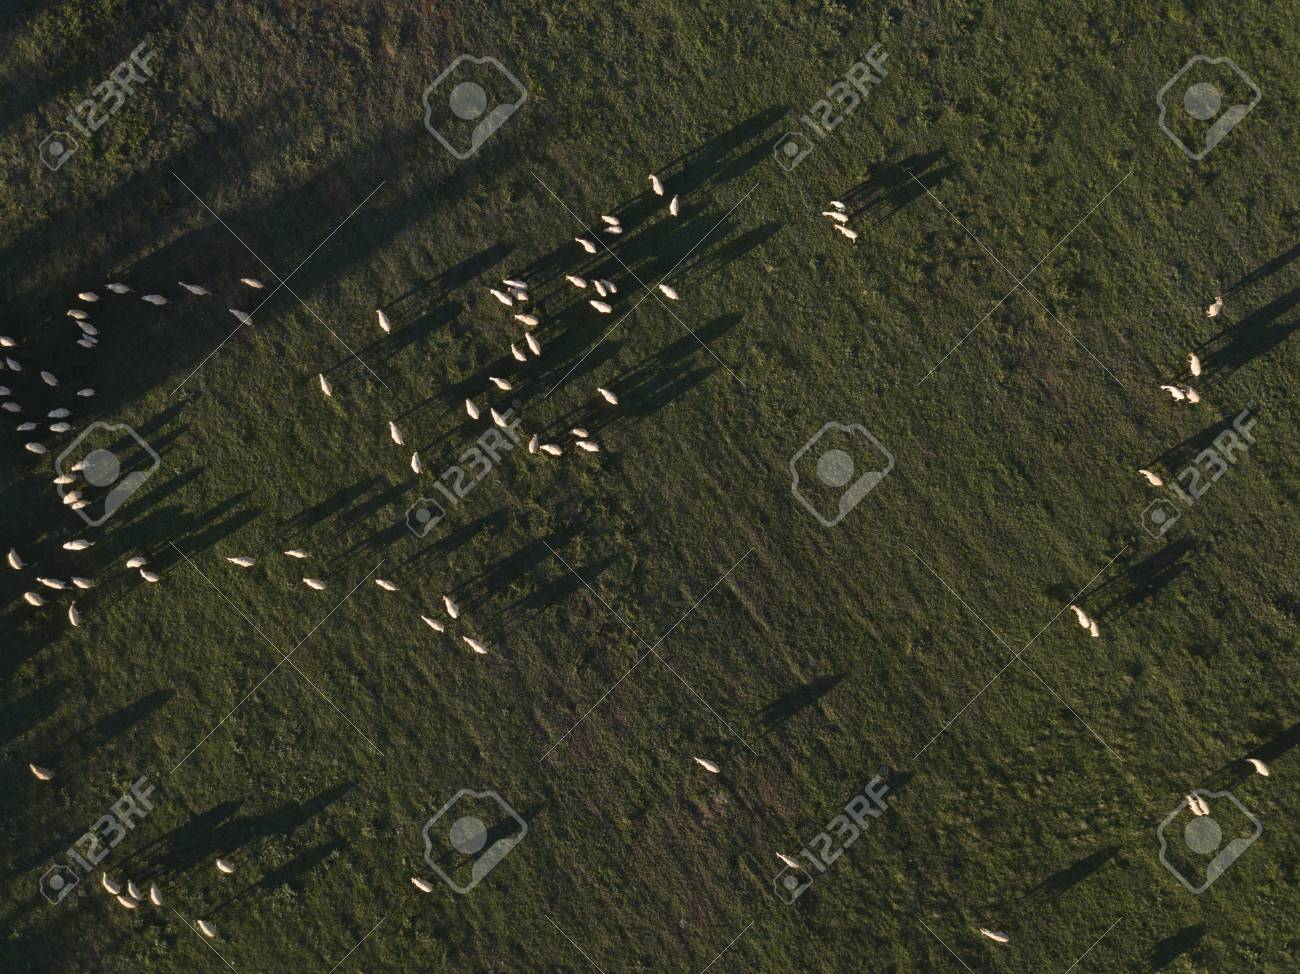sheep: (23, 759, 53, 783), (832, 220, 860, 243), (1068, 603, 1091, 631), (461, 632, 490, 655), (226, 305, 256, 326), (33, 575, 69, 592), (135, 565, 165, 585), (5, 545, 29, 571), (99, 871, 123, 894), (65, 600, 84, 629), (441, 592, 461, 619), (373, 308, 393, 336), (61, 537, 96, 552), (178, 280, 210, 297), (420, 613, 446, 632), (139, 292, 171, 307), (77, 315, 101, 335), (490, 287, 515, 306), (301, 574, 327, 591), (524, 333, 544, 355), (227, 554, 259, 568), (410, 875, 435, 893), (318, 370, 334, 398), (125, 879, 144, 901), (124, 554, 150, 570), (515, 311, 539, 329), (372, 575, 397, 592), (388, 420, 405, 445), (590, 298, 615, 315), (23, 440, 50, 455), (239, 275, 267, 291), (488, 404, 508, 425), (660, 282, 680, 303), (598, 383, 618, 404), (644, 174, 664, 195), (283, 545, 312, 560), (104, 280, 133, 295), (488, 375, 512, 392), (146, 883, 165, 904), (575, 236, 597, 254), (465, 397, 482, 420), (565, 274, 588, 291), (501, 276, 528, 291), (538, 441, 561, 457), (48, 405, 74, 419), (822, 209, 848, 223), (4, 353, 23, 372), (510, 343, 529, 362), (410, 449, 424, 474), (527, 433, 543, 454), (666, 195, 682, 217), (66, 305, 88, 320), (24, 592, 48, 606), (15, 417, 37, 432), (39, 370, 56, 388), (51, 474, 76, 486), (573, 440, 599, 451), (78, 289, 99, 302), (63, 488, 82, 503), (69, 459, 96, 470), (599, 214, 618, 228), (50, 420, 73, 432), (833, 197, 853, 210), (76, 387, 97, 396)
